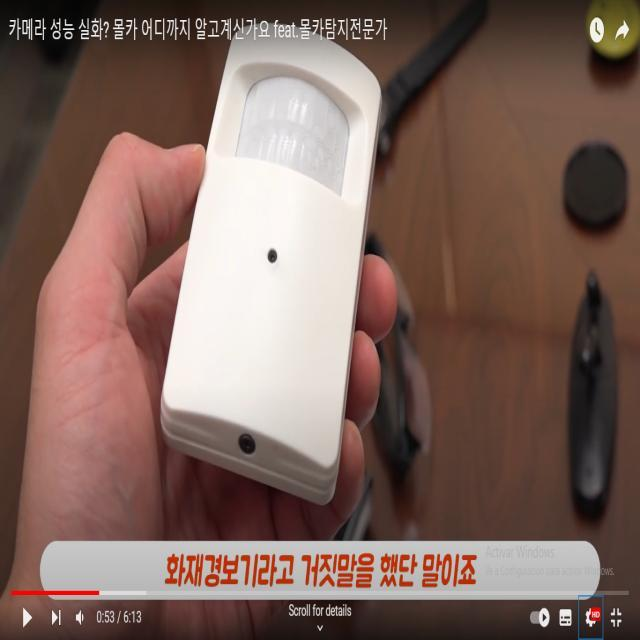hidden camera: (267, 247, 279, 267)
